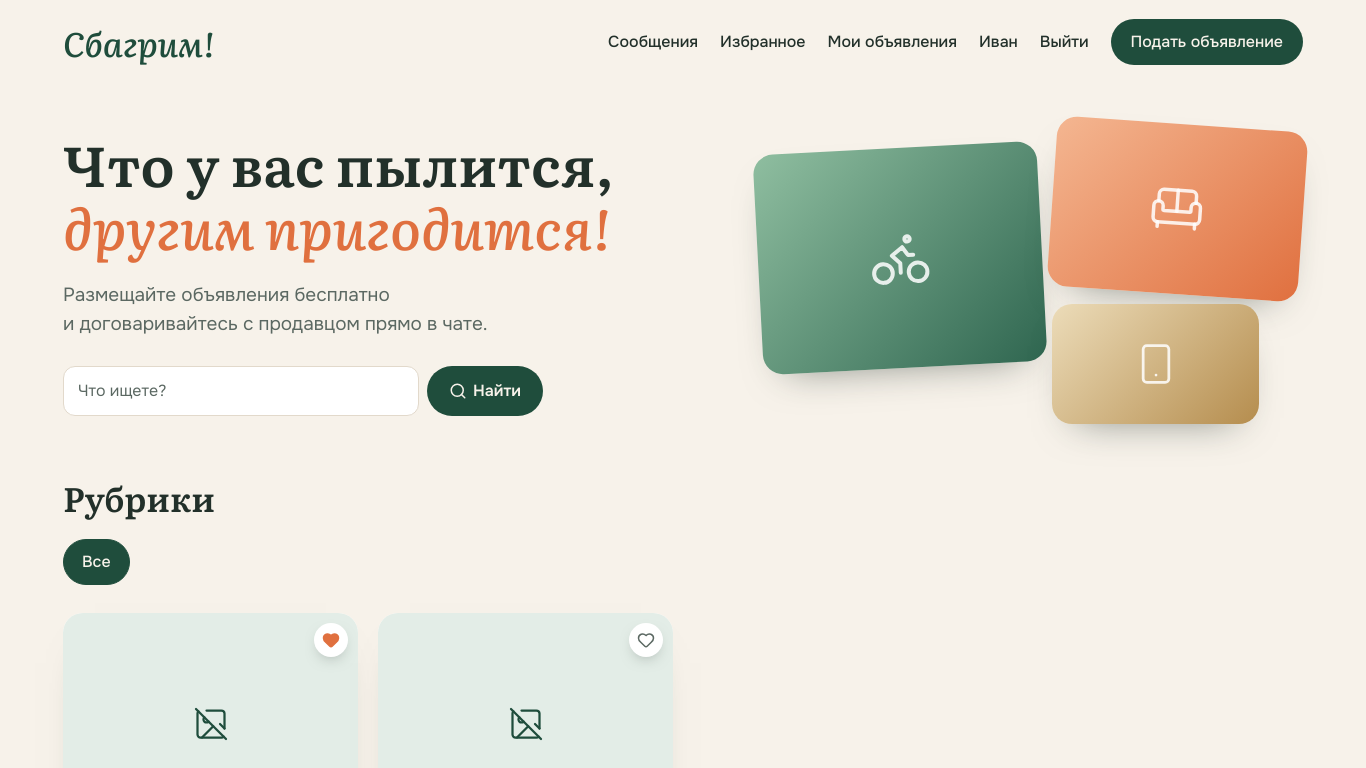
Test: избранное › после выхода сердечек больше нет
Expected: the button named "В избранном: Велосипед" is shown, top-left (314, 623), bottom-right (348, 657)
Click the button "Выйти" at (1064, 42), box top-left (1040, 30), bottom-right (1088, 54)
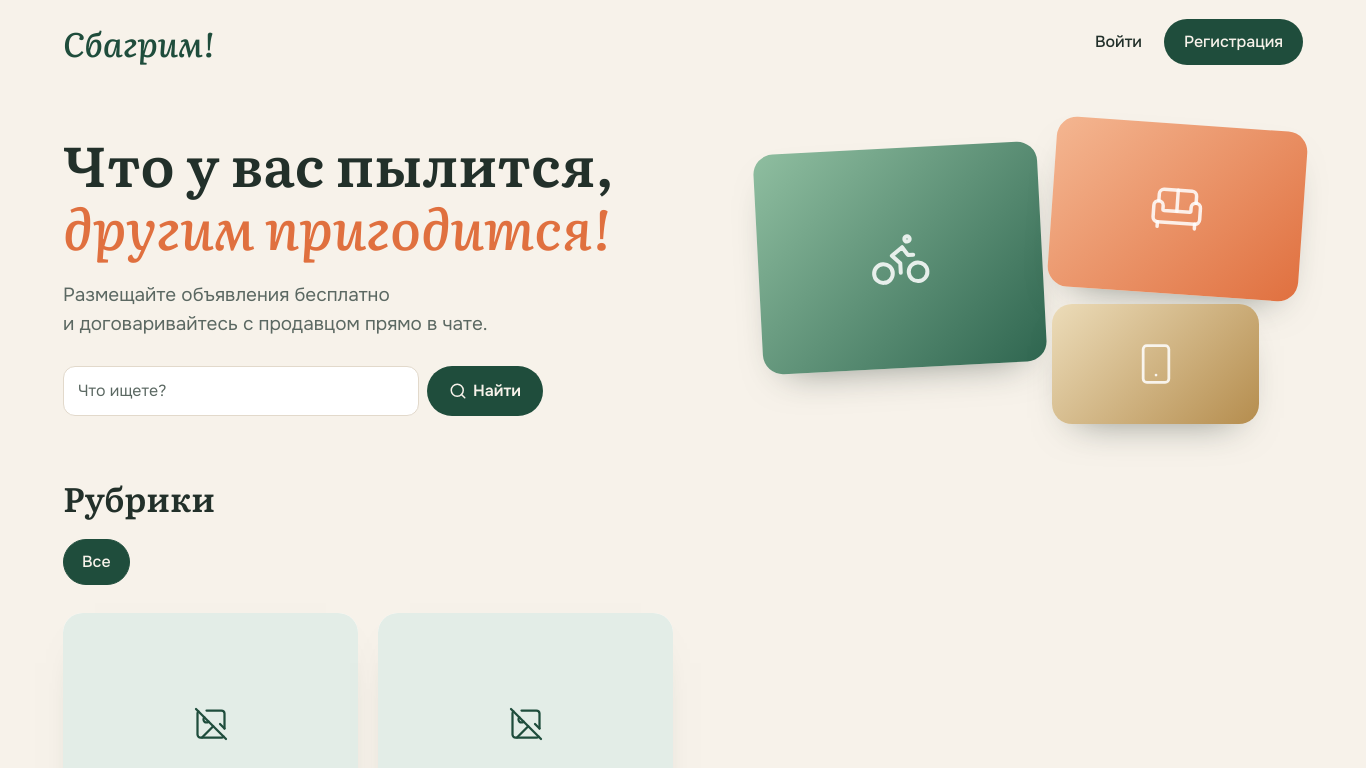
Expected: the link "Избранн" is gone
